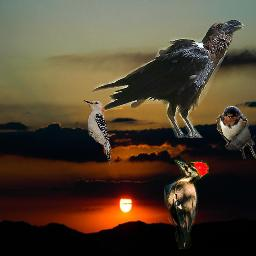Crow: (91, 19, 244, 138)
Swallow: (216, 106, 256, 159)
Woodpecker: (163, 159, 209, 249), (83, 97, 114, 165)
